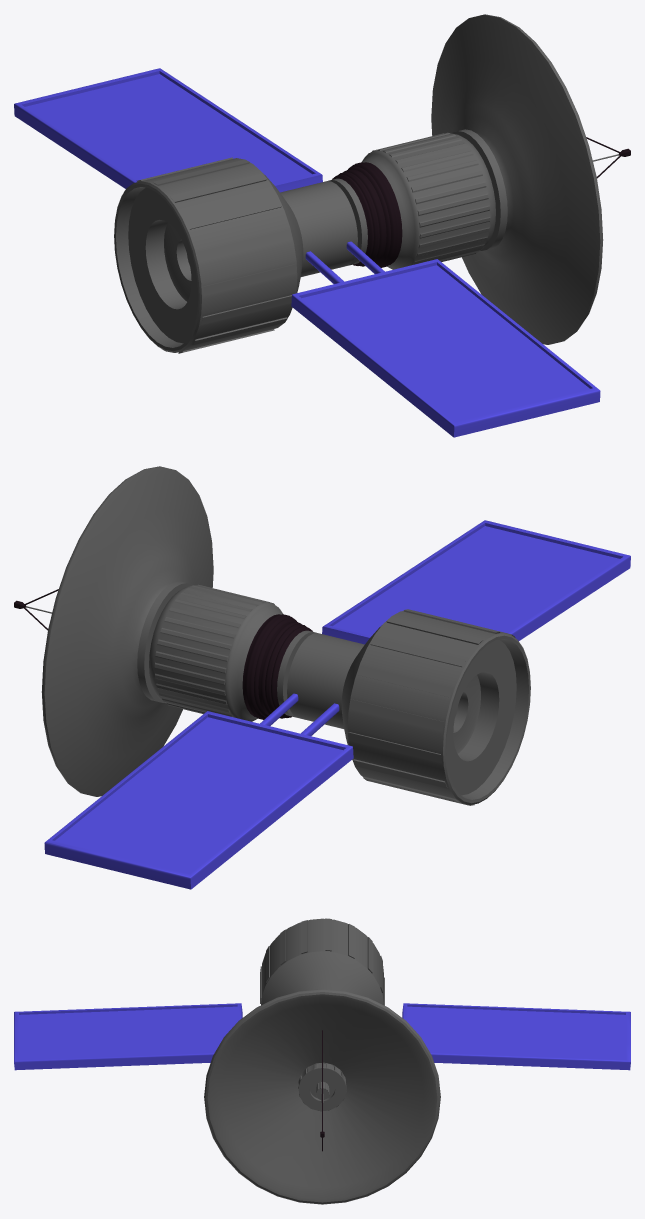
File: old_satellite.gltf
3 views of the same model, one above another, from view 1: azimuth 30°, elevation 25°; view 2: azimuth 150°, elevation 25°; view 3: azimuth 270°, elevation 25° (orthographic). The views are drawn at different scales.
Visible parts, largest first — view 1: Satélite, Placas, Couro; view 2: Satélite, Placas, Couro; view 3: Satélite, Placas.
Part boxes in pixels (x1,y1,x2,y2): Satélite: [114, 14, 618, 353]; Placas: [14, 68, 600, 437]; Couro: [332, 162, 402, 267]; Satélite: [26, 466, 530, 805]; Placas: [44, 520, 630, 889]; Couro: [242, 614, 312, 719]; Satélite: [204, 918, 440, 1204]; Placas: [14, 1003, 630, 1070].
Size of the model in its own units: 6.21 by 3.85 by 10.02.
